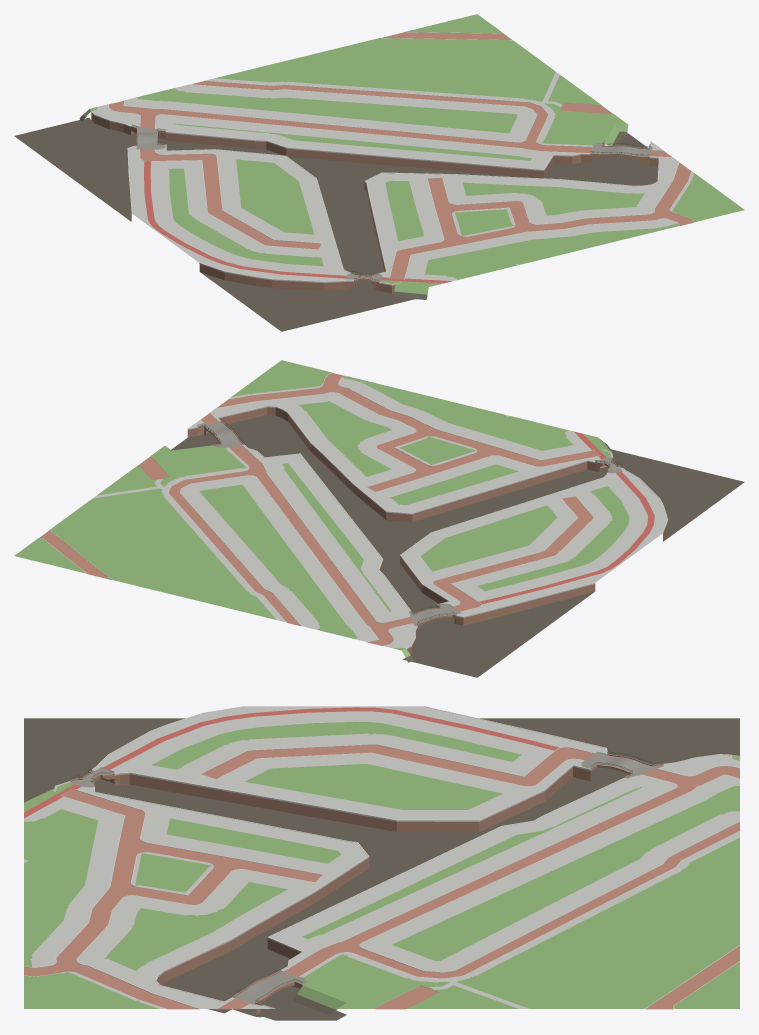
Rendered from ground_12_11.glb.
The picture shows the model from 3 angles, top to bottom: view 1: azimuth 30°, elevation 25°; view 2: azimuth 150°, elevation 25°; view 3: azimuth 270°, elevation 25°; orthographic projection. The views are drawn at different scales.
Parts seen in each view (by area): view 1: ground_12_11; view 2: ground_12_11; view 3: ground_12_11.
Part boxes in pixels (box(x1,y1,x2,y2)): ground_12_11: box(14, 14, 744, 331); ground_12_11: box(14, 360, 744, 677); ground_12_11: box(24, 706, 739, 1020).
Size of the model in its own units: 200 by 5.2 by 204.
